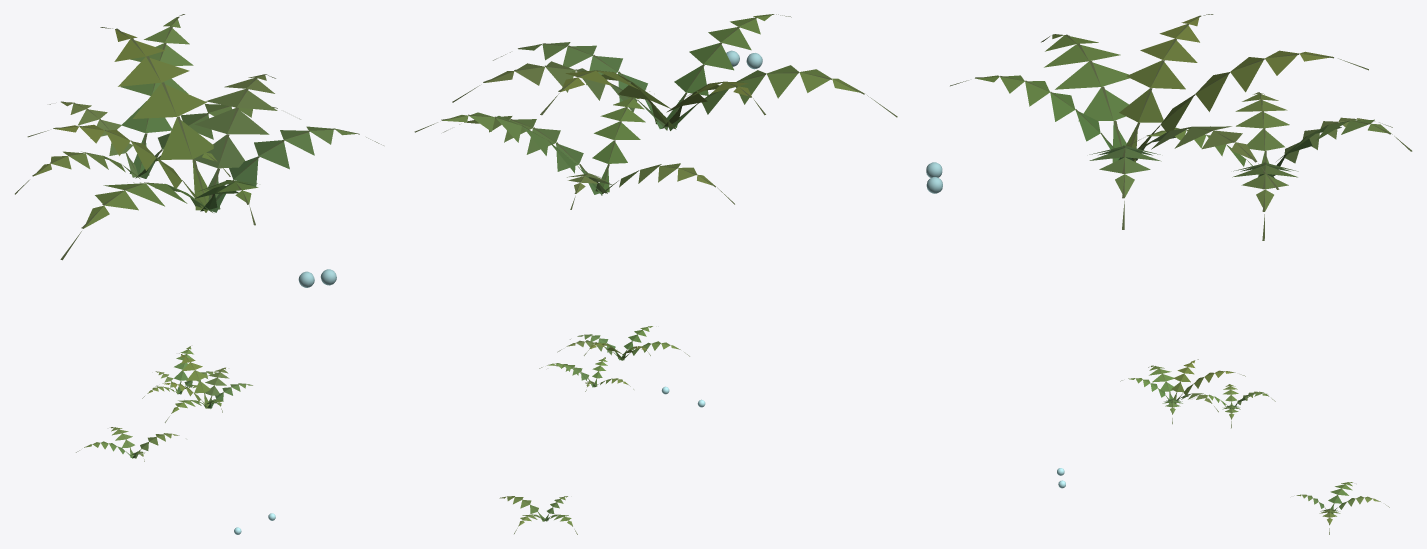
The model's file is thrall-extras.phone.glb.
The picture shows the model from 3 angles, left to right: view 1: azimuth 30°, elevation 25°; view 2: azimuth 150°, elevation 25°; view 3: azimuth 270°, elevation 25°; orthographic projection. The views are drawn at different scales.
Visible parts, largest first — view 1: elk_thrall, boar_thrall; view 2: elk_thrall, boar_thrall; view 3: elk_thrall, boar_thrall.
Boxes of the visible parts, x1,y1,x2,y2 form: elk_thrall: [15, 14, 383, 287]; boar_thrall: [76, 346, 275, 534]; elk_thrall: [414, 14, 897, 209]; boar_thrall: [499, 326, 705, 534]; elk_thrall: [926, 14, 1412, 240]; boar_thrall: [1057, 359, 1389, 534].
Bounding box in the file's own units: 2.18 × 2.49 × 2.43.
